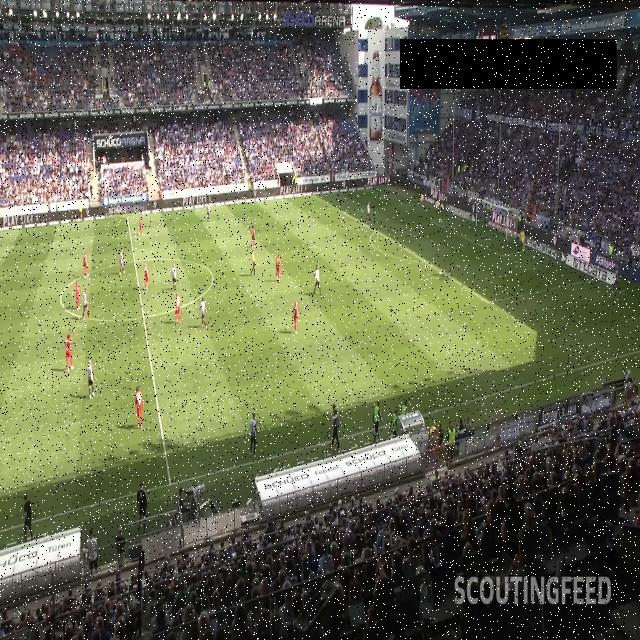Ball: (532, 255, 536, 260)
GoalKeeper: (519, 228, 526, 252)
Referee: (250, 249, 256, 276), (78, 204, 83, 222)
TEAM 1: (134, 385, 144, 430), (65, 334, 74, 373), (290, 302, 300, 335), (174, 293, 182, 324), (82, 252, 90, 278), (75, 280, 81, 311), (275, 254, 281, 282), (143, 263, 149, 291), (138, 214, 144, 237), (250, 227, 256, 249)
TEAM 2: (250, 412, 258, 458), (610, 266, 622, 294), (82, 288, 92, 321), (87, 359, 95, 400), (313, 266, 322, 296), (199, 298, 207, 329), (119, 248, 126, 276), (171, 263, 177, 292), (366, 201, 372, 223), (207, 201, 210, 221)
